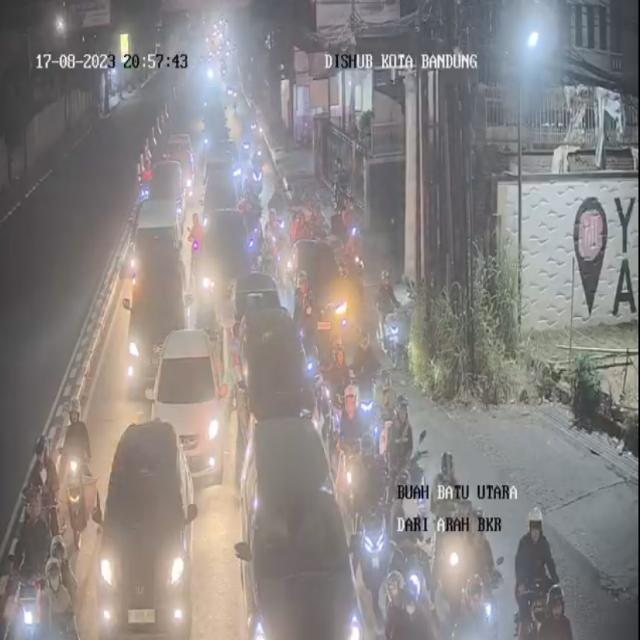cars: (243, 409, 364, 637), (85, 419, 192, 640), (239, 297, 324, 536), (154, 324, 228, 505), (297, 240, 360, 356), (124, 196, 187, 310), (228, 262, 287, 344), (150, 162, 188, 229)
motorcycle: (513, 499, 565, 638), (436, 444, 471, 602), (390, 494, 427, 633), (22, 437, 62, 552), (66, 398, 95, 541), (340, 380, 369, 516), (41, 533, 75, 640), (374, 265, 406, 365), (353, 327, 383, 430), (383, 582, 435, 640), (536, 587, 582, 640), (388, 405, 411, 498), (330, 339, 350, 422), (268, 180, 290, 252), (297, 267, 314, 357), (310, 191, 330, 250), (187, 200, 204, 267), (293, 209, 310, 266), (254, 142, 270, 198), (192, 111, 210, 155)
